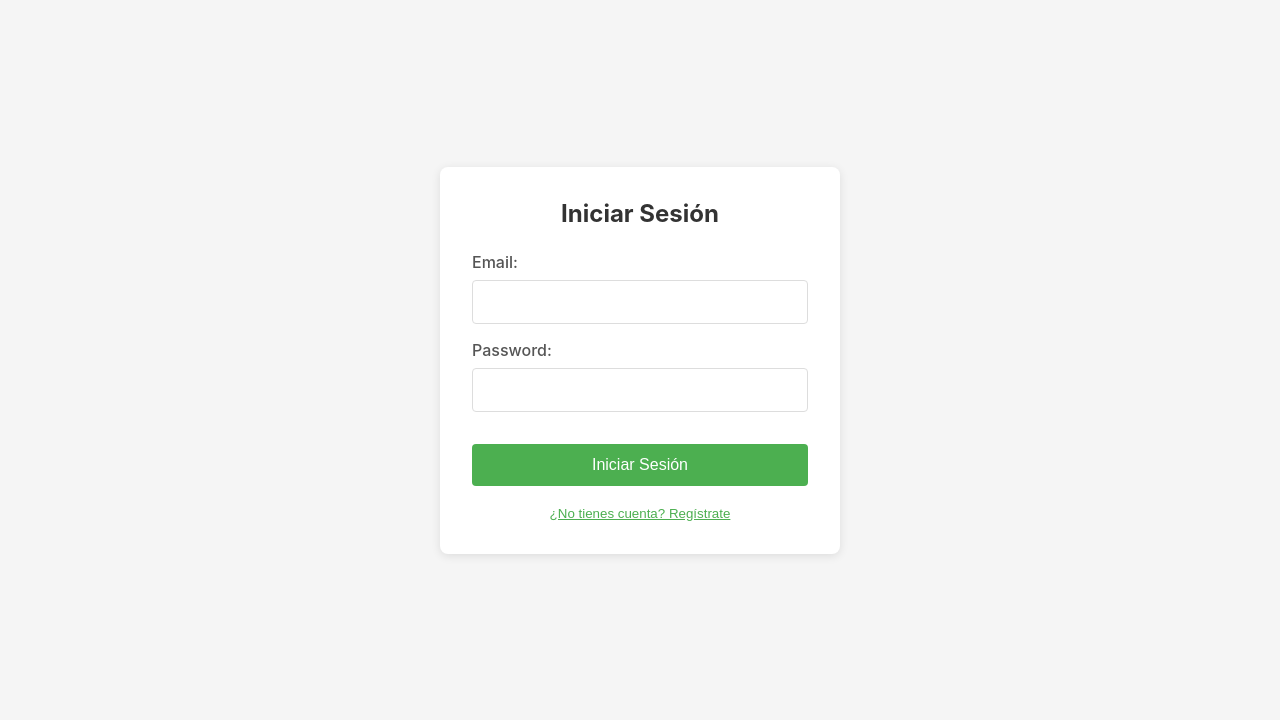
Test case: Authentication Flow › debería registrarse exitosamente
The image size is (1280, 720).
# Cambiar a modo registro
Click the button "¿No tienes cuenta? Regístrate" at [641, 514], box left=550, top=506, right=731, bottom=521
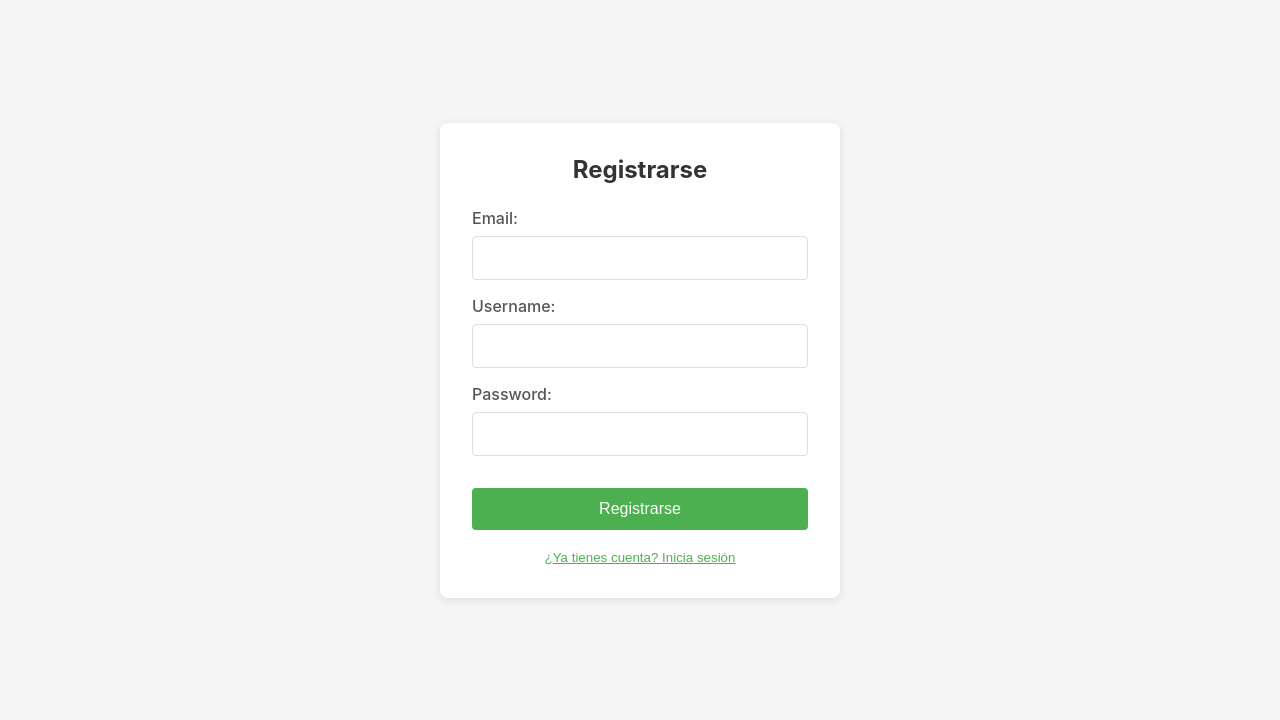
Type "newuser@example.com" into the field with id "email" at [640, 258], box left=472, top=236, right=808, bottom=280
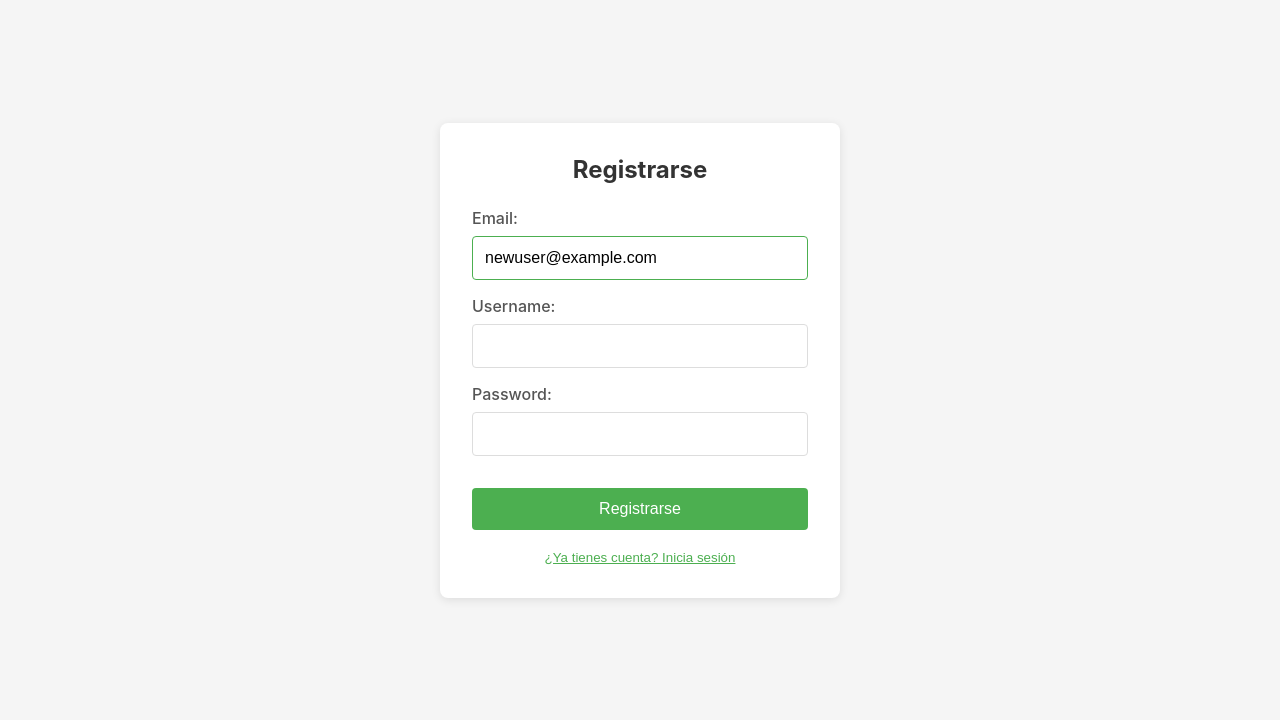
Type "newuser" into the field with id "username" at [640, 346], box left=472, top=324, right=808, bottom=368
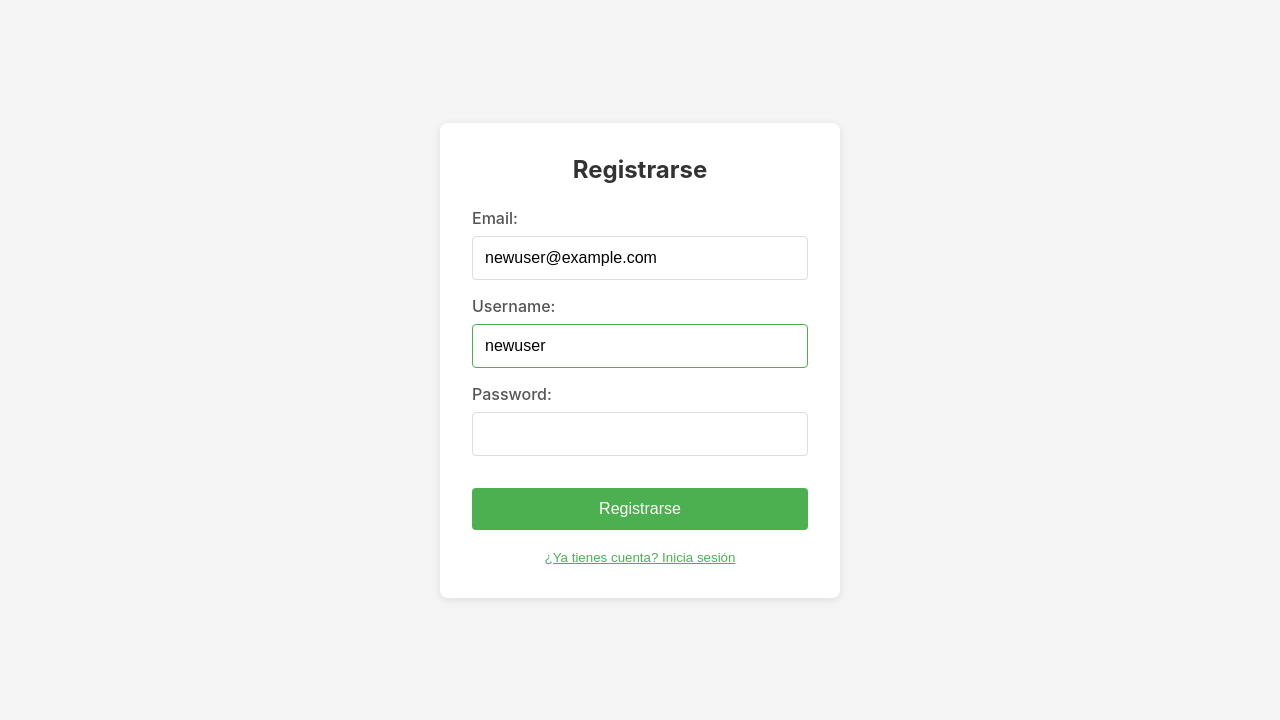
Type "123456" into the password field labelled "Password:" at [640, 434], box left=472, top=412, right=808, bottom=456
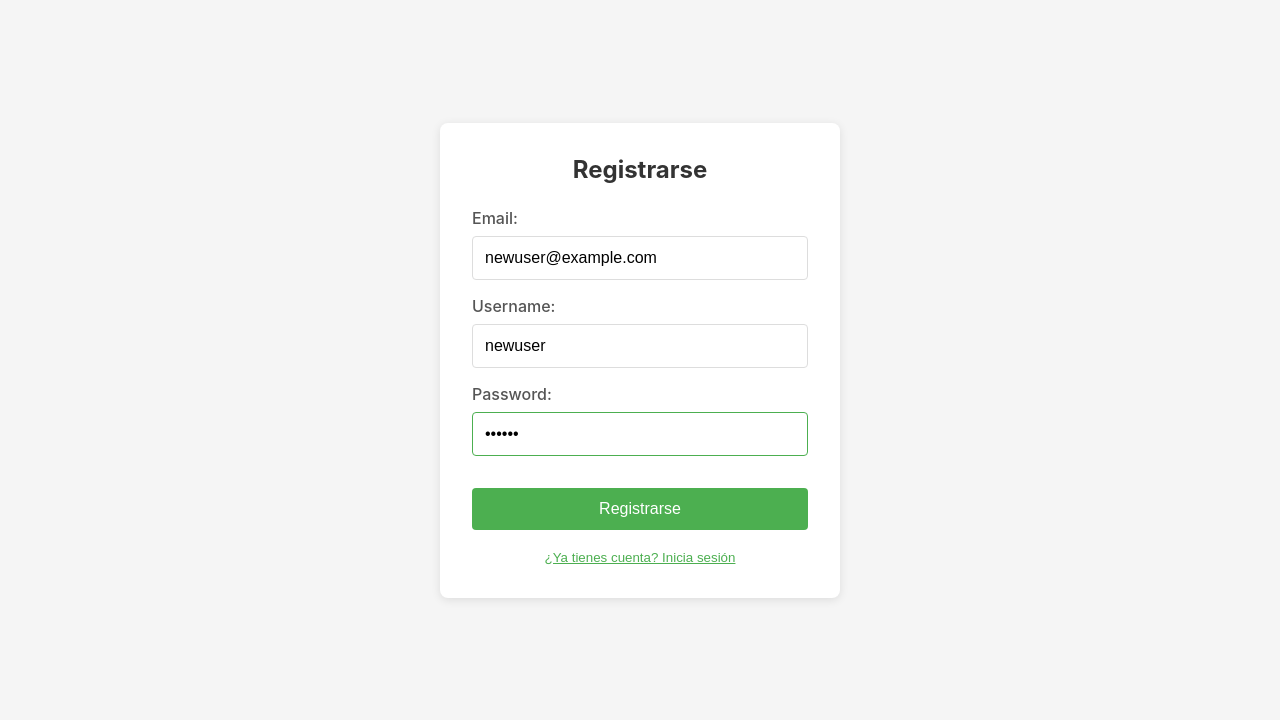
Click the submit button at [640, 509], box left=472, top=488, right=808, bottom=530
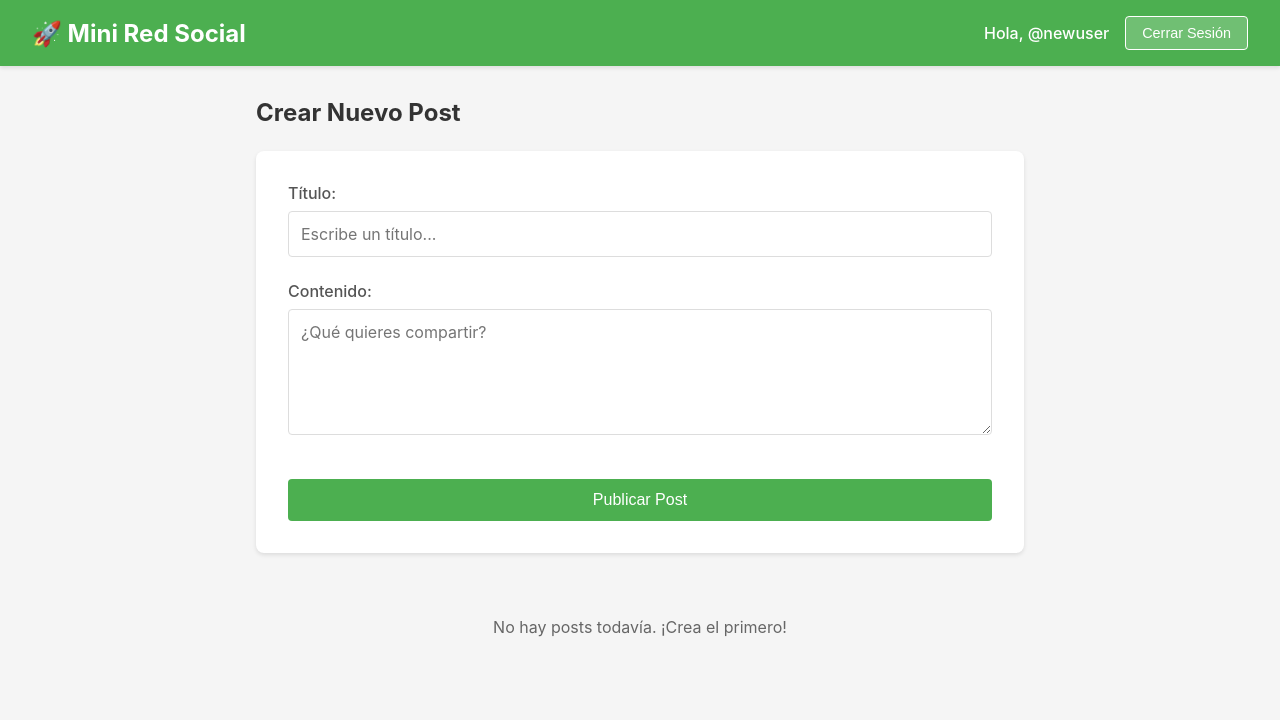
Check: the text "Hola, @newuser" is shown, box left=984, top=23, right=1109, bottom=43
